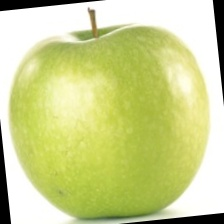apple: (34, 31, 170, 188)
